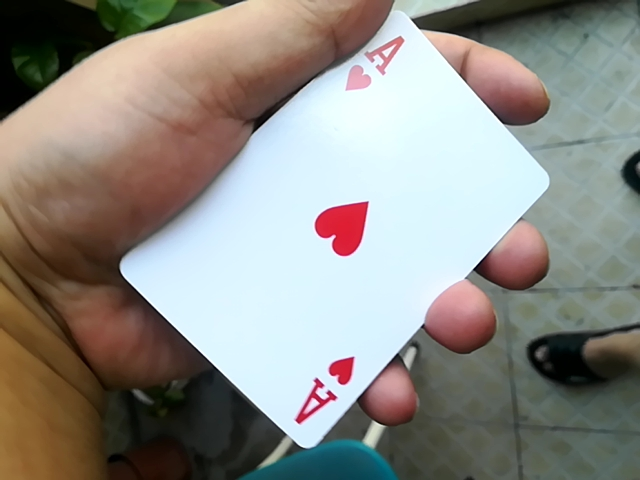hx a: (109, 13, 545, 453)
